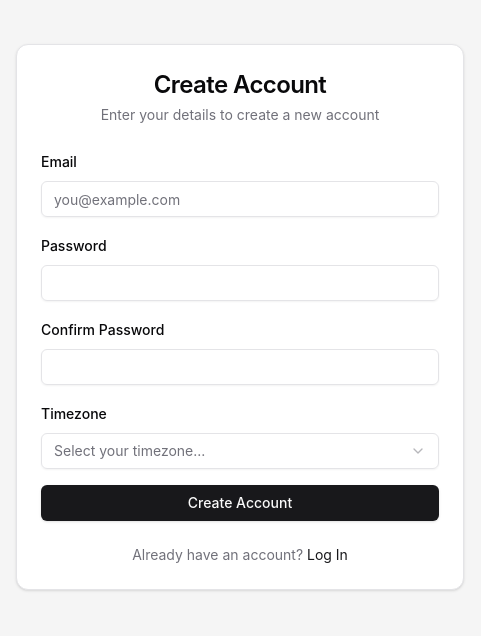
RegisterPage › should show validation error when passwords do not match
In the field labelled "Email": coordinates (240, 199) [41,181,439,217], type "test@example.com"
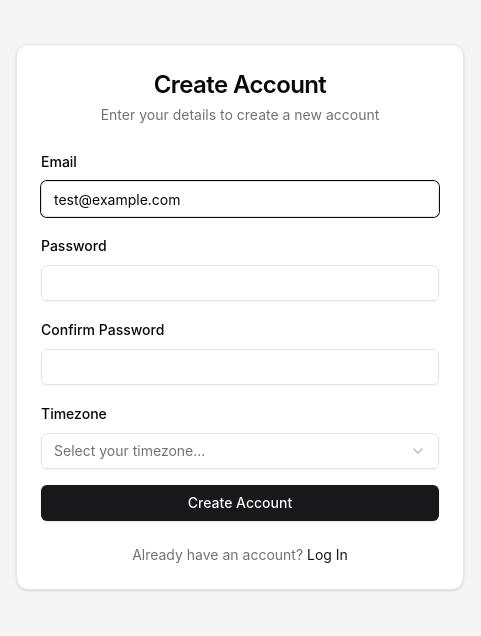
In the password field labelled "Password": coordinates (240, 283) [41,265,439,301], type "password123"
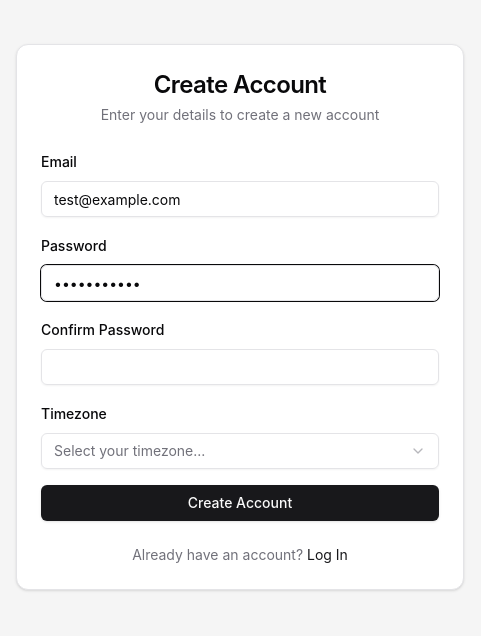
In the password field labelled "Confirm Password": coordinates (240, 367) [41,349,439,385], type "differentpassword"
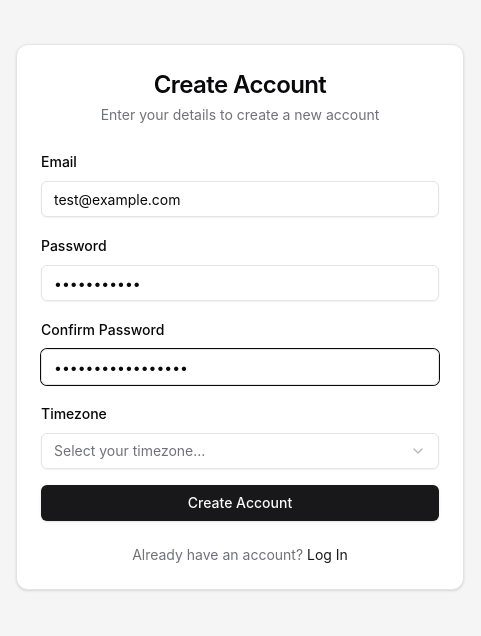
Click the button "Create Account": coordinates (240, 503) [41,485,439,521]
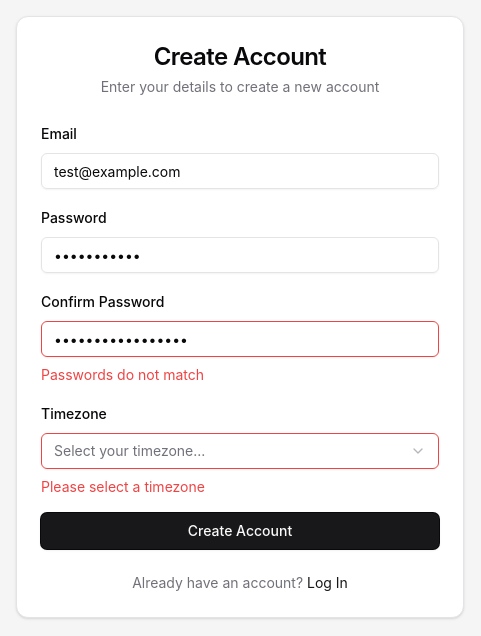
Expected: the text "Passwords do not match" is shown, [41,366,204,383]
